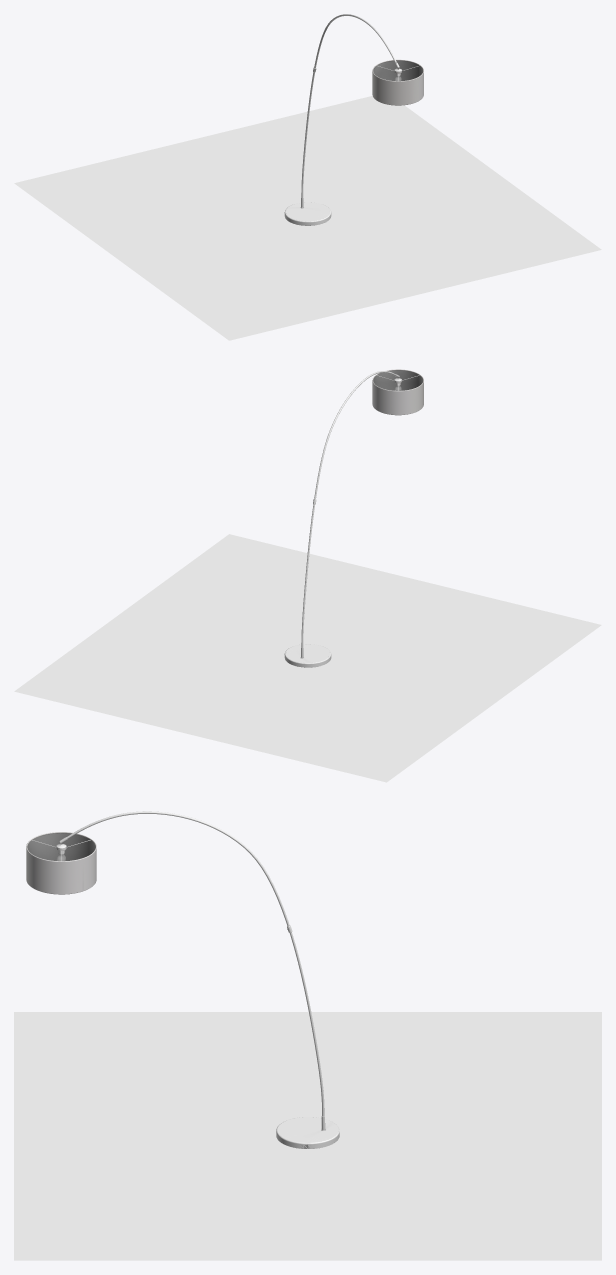
The picture shows the model from 3 angles, top to bottom: view 1: azimuth 30°, elevation 25°; view 2: azimuth 150°, elevation 25°; view 3: azimuth 270°, elevation 25°; orthographic projection. The views are drawn at different scales.
Parts seen in each view (by area): view 1: FLOOR, STEEL_MATT_GREY, LAMP_SHADE, COPPER; view 2: FLOOR, STEEL_MATT_GREY, LAMP_SHADE, COPPER; view 3: FLOOR, STEEL_MATT_GREY, LAMP_SHADE, COPPER.
Part boxes in pixels (x1,y1,x2,y2): FLOOR: (14, 96, 601, 340); STEEL_MATT_GREY: (284, 14, 401, 225); LAMP_SHADE: (372, 59, 423, 105); COPPER: (373, 60, 423, 81); FLOOR: (14, 534, 601, 782); STEEL_MATT_GREY: (284, 371, 401, 667); LAMP_SHADE: (372, 369, 423, 415); COPPER: (373, 370, 423, 390); FLOOR: (14, 1012, 601, 1260); STEEL_MATT_GREY: (56, 811, 339, 1148); LAMP_SHADE: (26, 832, 96, 894); COPPER: (27, 833, 95, 861).
Bounding box in the file's own units: 334 × 204 × 334.
8 materials, 7 textured.
